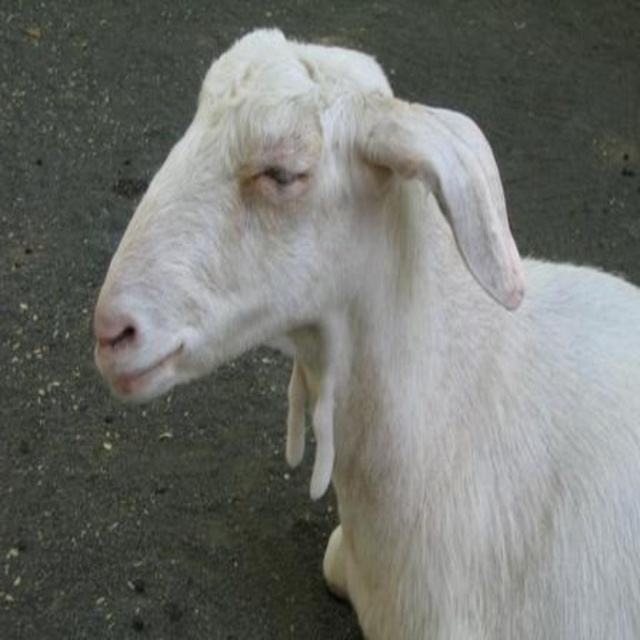Goat: (96, 27, 639, 638)
